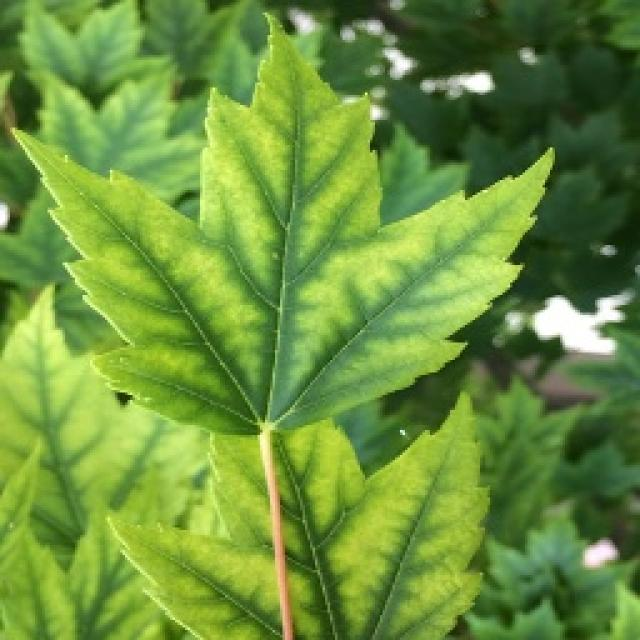Chlorosis: (26, 40, 566, 447)
